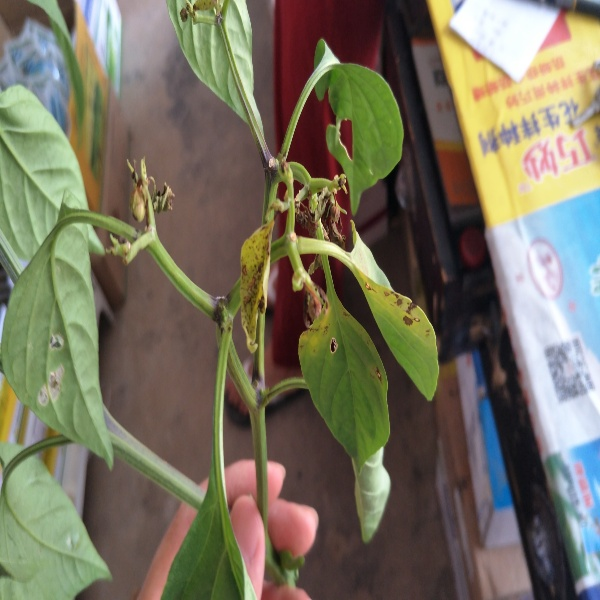Anthrax: (1, 228, 123, 466), (357, 240, 448, 400), (238, 215, 276, 357)
blight: (296, 310, 389, 473), (105, 154, 176, 266), (295, 175, 358, 244), (238, 368, 277, 414), (250, 137, 291, 180), (201, 286, 236, 336)
